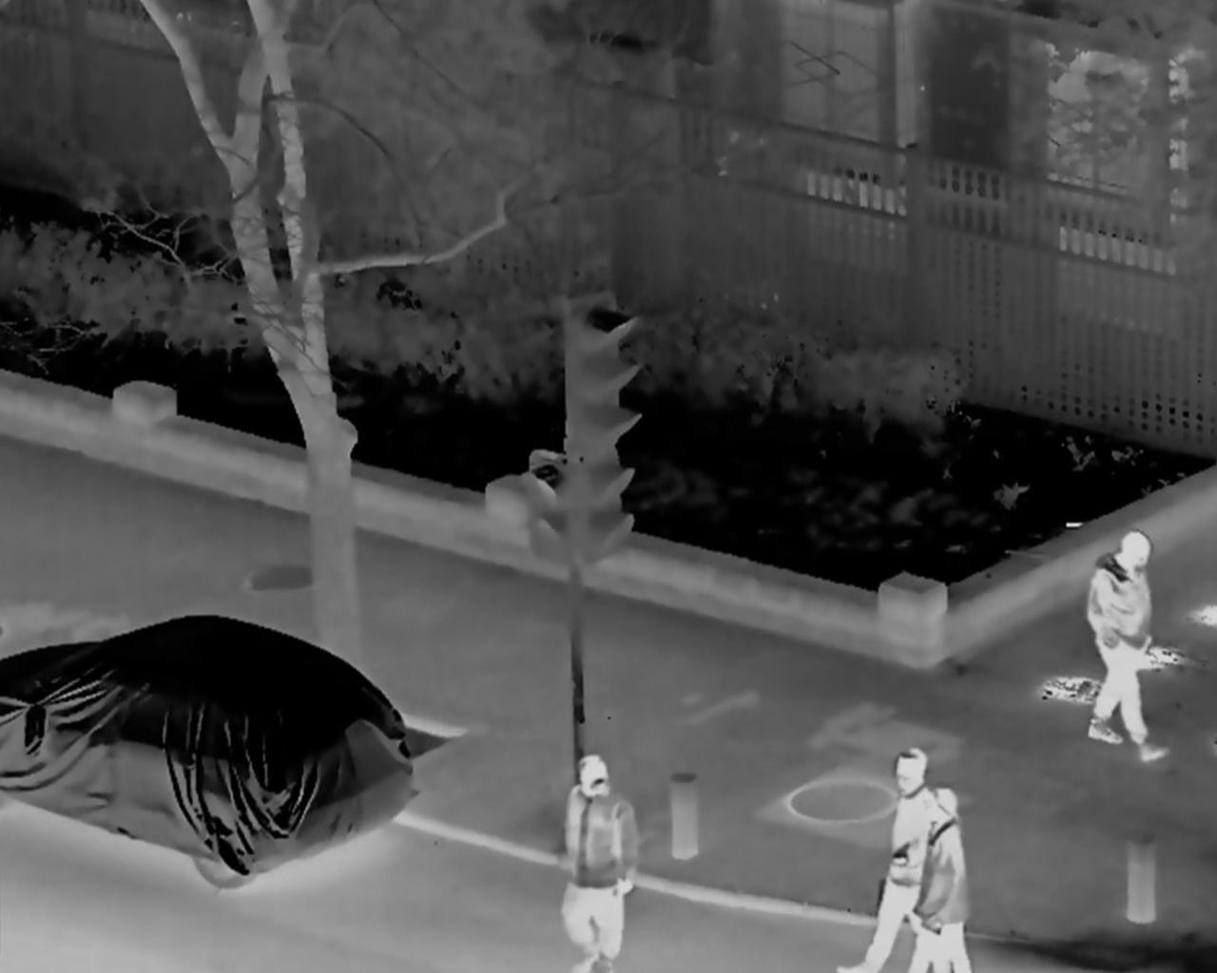person: (840, 748, 962, 973), (1081, 531, 1174, 761), (559, 757, 638, 973), (909, 792, 974, 973)
